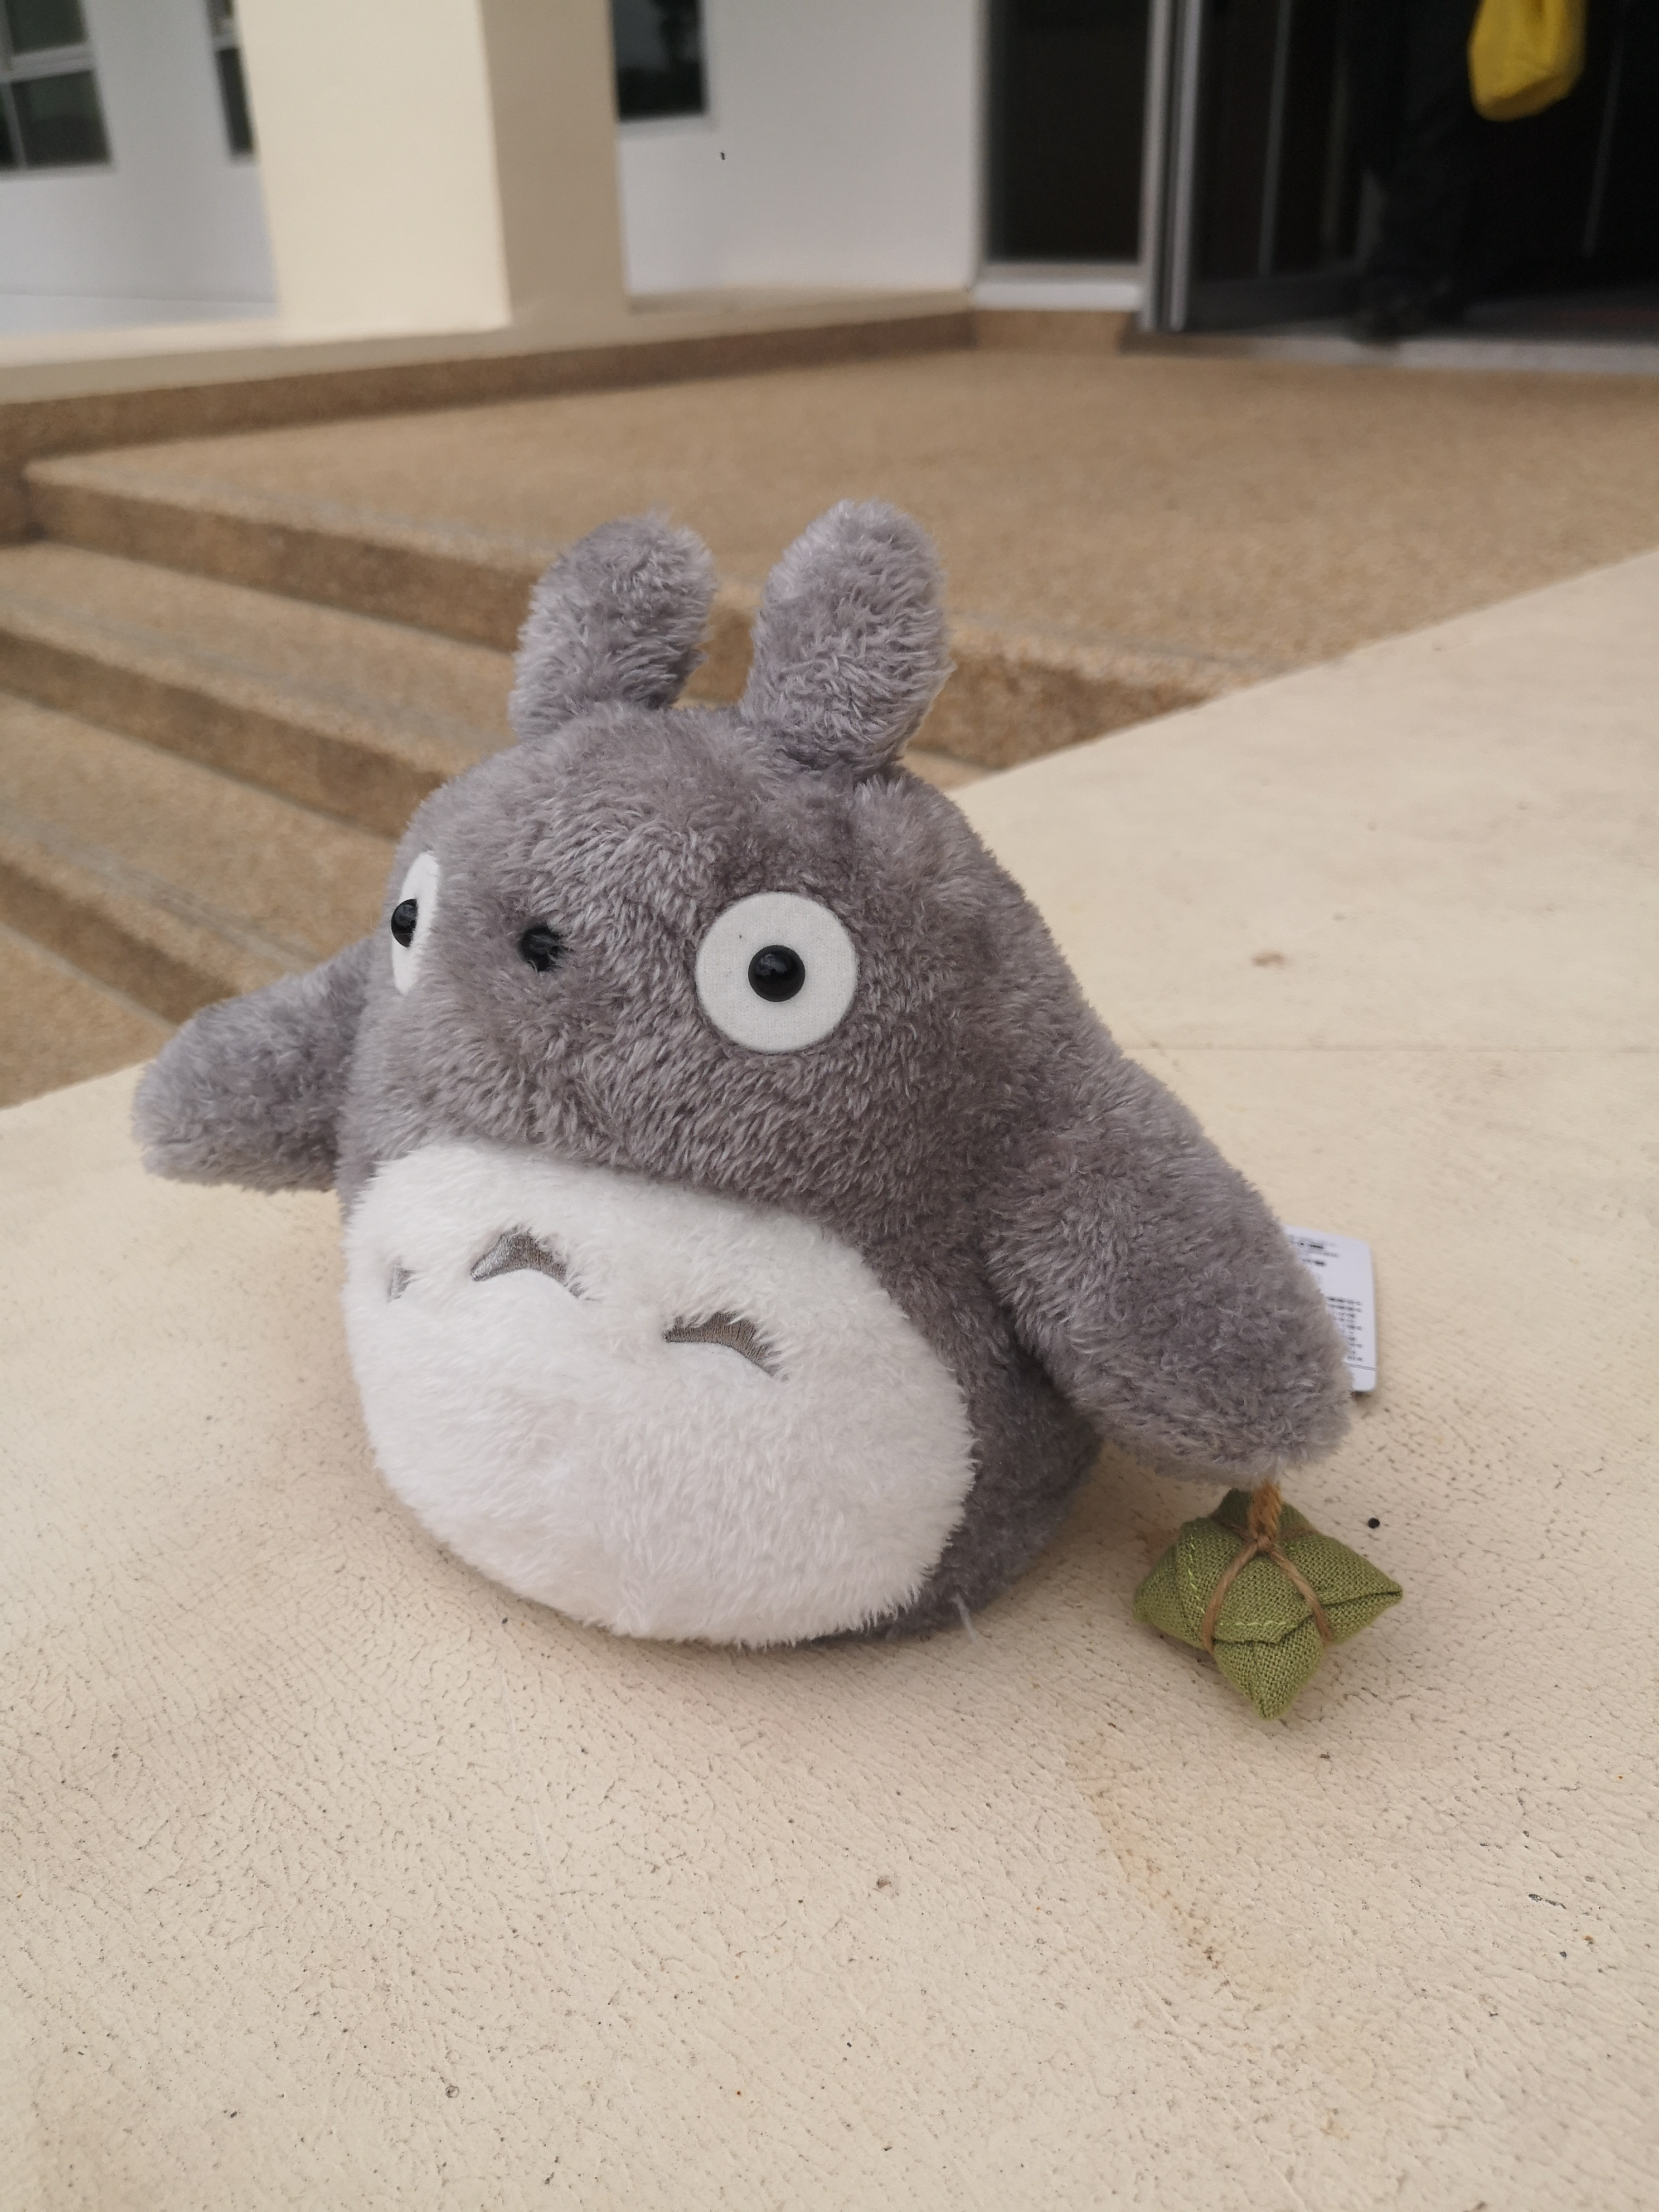totoro: (115, 495, 1413, 1721)
